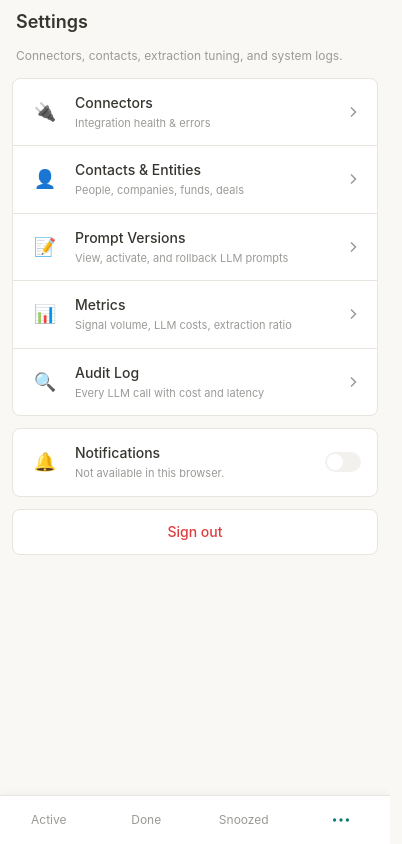
Test: Settings › navigates to Metrics page and shows "Last 30 days"
The image size is (402, 844).
Click the button "Metrics" at (195, 315), box [13,281,377,349]
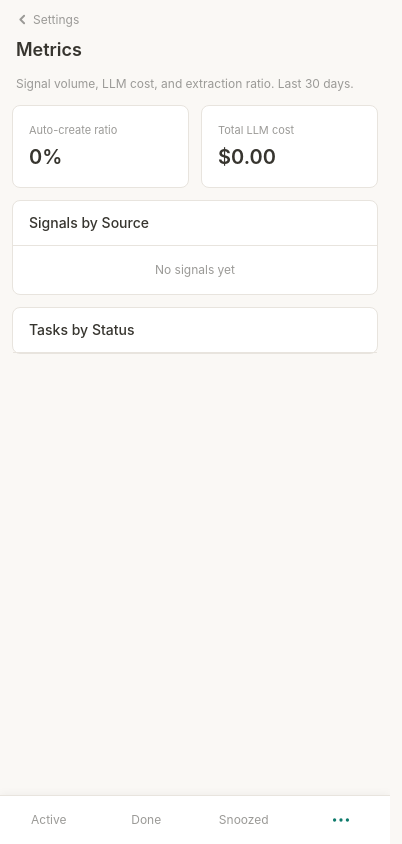
Now the text "Last 30 days" is shown, box [16,76,354,91]
